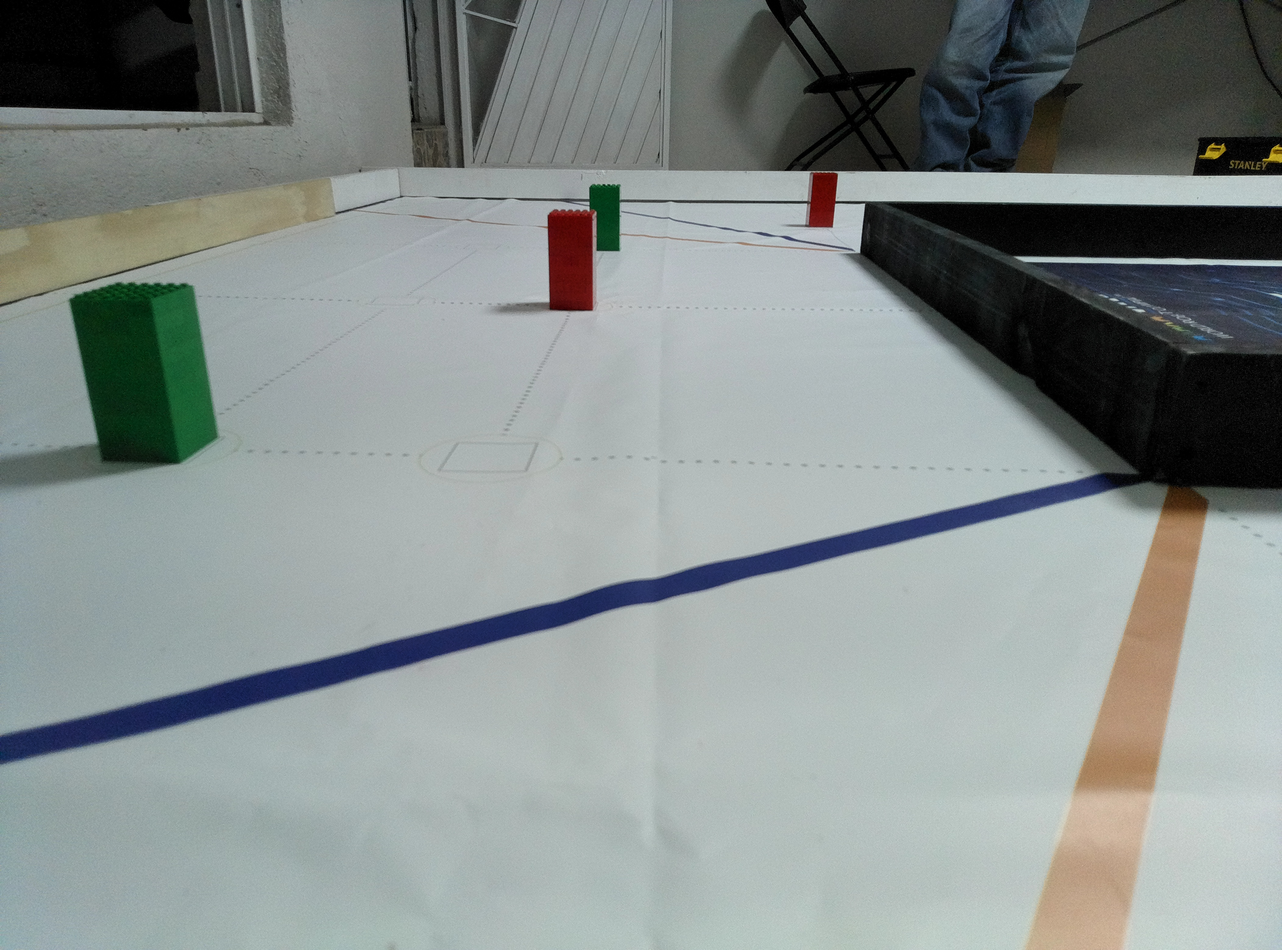greenbox: (68, 280, 221, 467), (589, 184, 624, 253)
redbox: (546, 208, 599, 312), (805, 171, 839, 228)
